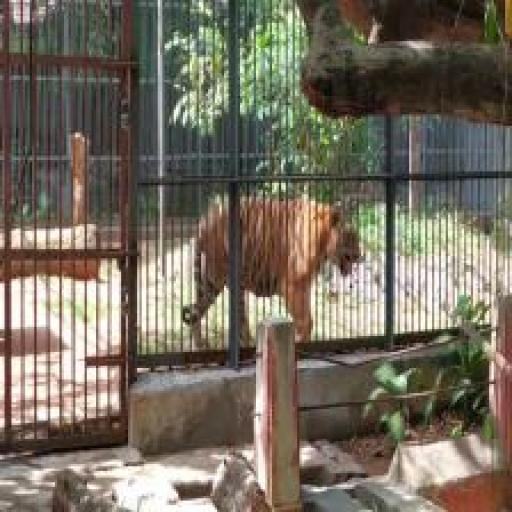Tiger: (164, 130, 380, 378)
